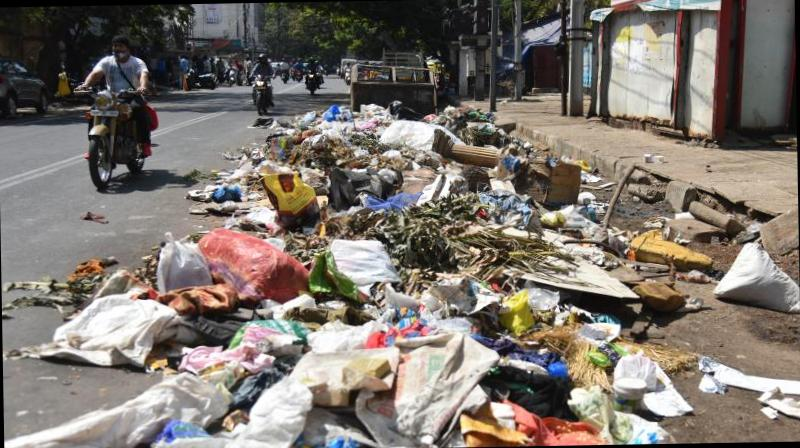road: (0, 88, 266, 284), (3, 358, 164, 437), (273, 78, 346, 114), (2, 306, 62, 348)
trash: (290, 288, 498, 446), (402, 217, 683, 311), (4, 371, 229, 448), (21, 292, 183, 366), (197, 227, 309, 301), (224, 375, 312, 448), (394, 123, 518, 174), (329, 167, 455, 217), (567, 386, 673, 443), (479, 365, 577, 420), (537, 163, 594, 238), (157, 231, 212, 291), (184, 308, 256, 346), (613, 349, 657, 391), (479, 190, 531, 219)
